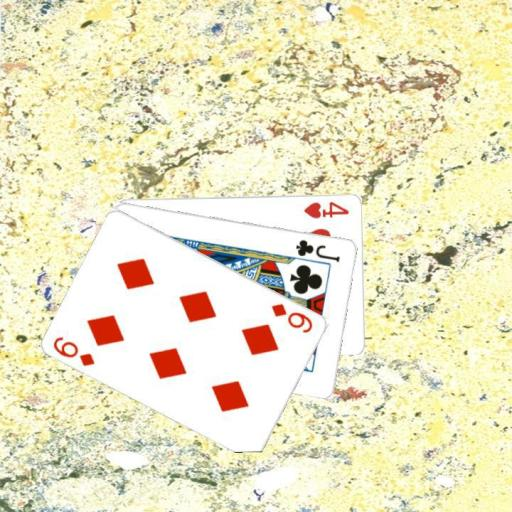4H: (301, 198, 351, 220)
6D: (268, 300, 315, 335), (51, 334, 97, 368)
JC: (293, 236, 342, 263)
